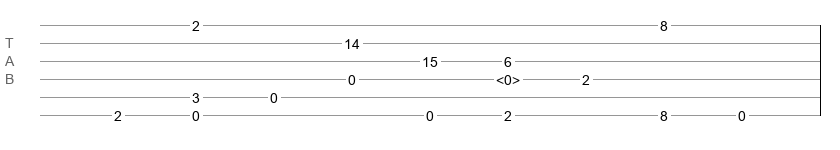0: (192, 108, 200, 118), (270, 90, 278, 100), (348, 72, 356, 82), (426, 108, 434, 118), (738, 108, 746, 118)
14: (344, 36, 360, 46)
15: (422, 54, 438, 64)
2: (114, 108, 122, 118), (192, 18, 200, 28), (504, 108, 512, 118), (582, 72, 590, 82)
3: (192, 90, 200, 100)
6: (504, 54, 512, 64)
8: (660, 108, 668, 118), (660, 18, 668, 28)
harmonic: (496, 72, 520, 82)
